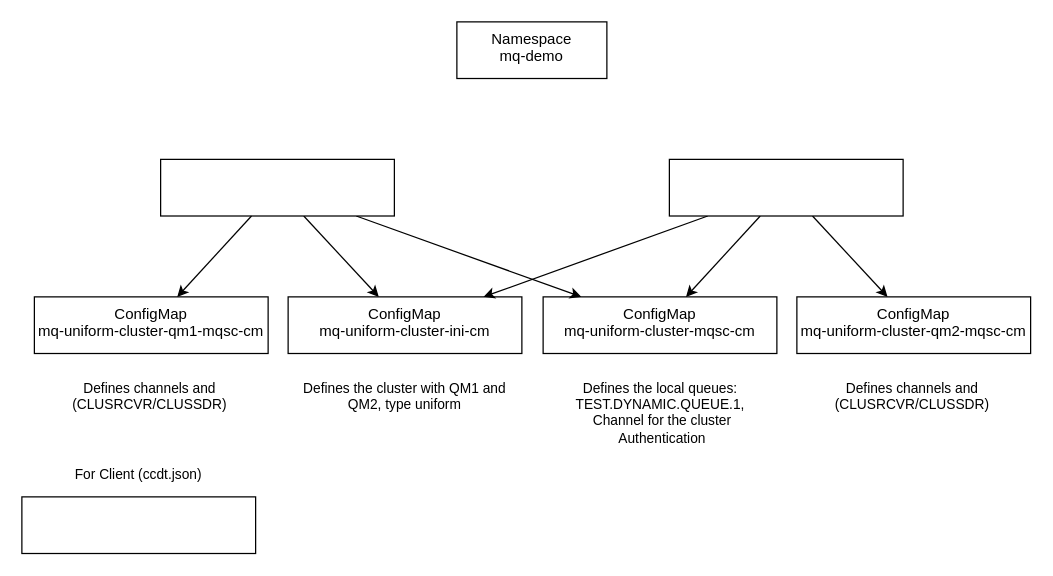
This 1053x576 diagram has some shape labels left out. The centre of each missing label's shape, as x and y in pixels:
"ConfigMap index-html-configmap" goes at [138,525].
"QueueManager QM1" goes at [276,187].
"QueueManager QM2" goes at [785,187].
